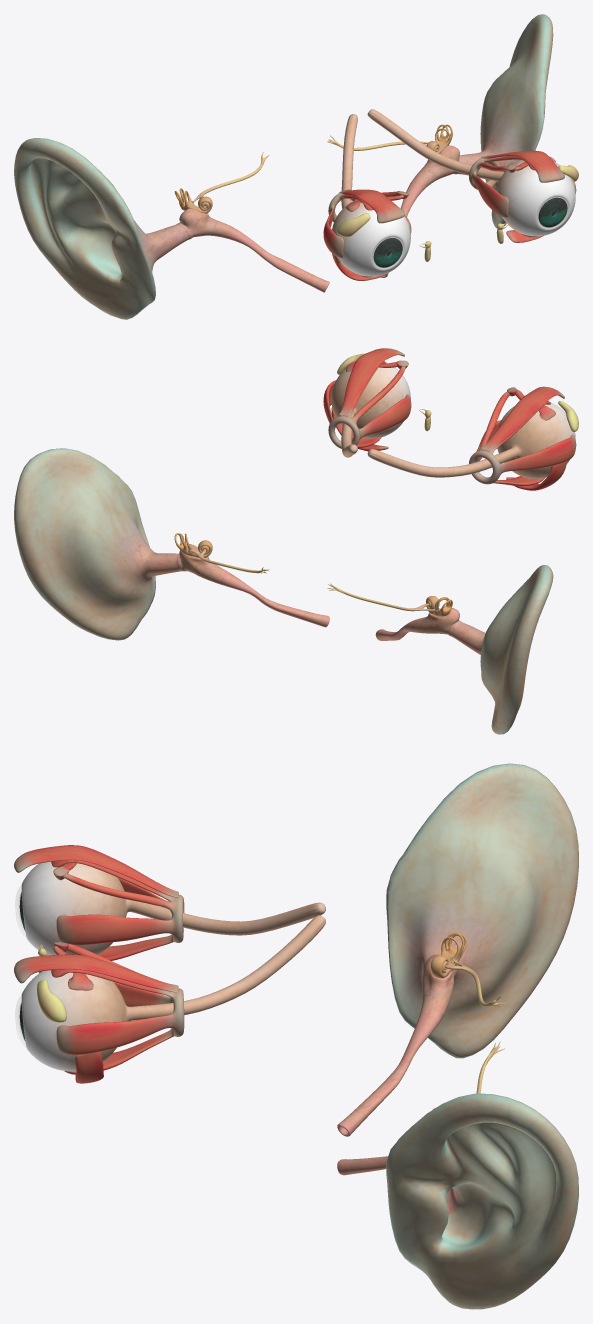
The model's file is human_Sensory.glb.
3 renders of one model, top to bottom at view 1: azimuth 30°, elevation 25°; view 2: azimuth 150°, elevation 25°; view 3: azimuth 270°, elevation 25°, orthographic. The views are drawn at different scales.
Visible parts, largest first — view 1: male_ear_inner_outer_R-hi, male_ear_inner_outer_L-hi, male_eye_sclera_optic_nerveL-hi, male_eye_sclera_optic_nerveR-hi, male_eye_musculatureL-hi, male_eye_musculatureR-hi, male_eye_corneaL-hi, male_eye_corneaR-hi, male_eye_lacrimalR-hi, male_ear_cochleaR-hi, male_ear_cochleaL-hi; view 2: male_ear_inner_outer_L-hi, male_ear_inner_outer_R-hi, male_eye_musculatureR-hi, male_eye_musculatureL-hi, male_eye_sclera_optic_nerveR-hi, male_eye_sclera_optic_nerveL-hi; view 3: male_ear_inner_outer_R-hi, male_ear_inner_outer_L-hi, male_eye_musculatureL-hi, male_eye_sclera_optic_nerveL-hi, male_eye_sclera_optic_nerveR-hi, male_eye_musculatureR-hi, male_ear_cochleaR-hi, male_eye_lacrimalL-hi.
Boxes of the visible parts, bbox=[...] form: male_ear_inner_outer_R-hi: bbox=[14, 138, 329, 319]; male_ear_inner_outer_L-hi: bbox=[380, 14, 553, 277]; male_eye_sclera_optic_nerveL-hi: bbox=[367, 109, 575, 236]; male_eye_sclera_optic_nerveR-hi: bbox=[332, 114, 410, 276]; male_eye_musculatureL-hi: bbox=[469, 150, 576, 242]; male_eye_musculatureR-hi: bbox=[323, 189, 411, 280]; male_eye_corneaL-hi: bbox=[538, 197, 567, 227]; male_eye_corneaR-hi: bbox=[373, 237, 402, 267]; male_eye_lacrimalR-hi: bbox=[337, 213, 431, 261]; male_ear_cochleaR-hi: bbox=[174, 188, 212, 213]; male_ear_cochleaL-hi: bbox=[426, 124, 452, 153]; male_ear_inner_outer_L-hi: bbox=[14, 448, 329, 640]; male_ear_inner_outer_R-hi: bbox=[375, 565, 553, 734]; male_eye_musculatureR-hi: bbox=[469, 386, 576, 490]; male_eye_musculatureL-hi: bbox=[323, 348, 411, 451]; male_eye_sclera_optic_nerveR-hi: bbox=[367, 403, 575, 478]; male_eye_sclera_optic_nerveL-hi: bbox=[331, 362, 410, 457]; male_ear_inner_outer_R-hi: bbox=[337, 763, 578, 1136]; male_ear_inner_outer_L-hi: bbox=[337, 1093, 578, 1309]; male_eye_musculatureL-hi: bbox=[14, 942, 184, 1083]; male_eye_sclera_optic_nerveL-hi: bbox=[19, 915, 325, 1071]; male_eye_sclera_optic_nerveR-hi: bbox=[19, 861, 325, 955]; male_eye_musculatureR-hi: bbox=[14, 845, 184, 960]; male_ear_cochleaR-hi: bbox=[431, 932, 466, 978]; male_eye_lacrimalL-hi: bbox=[37, 979, 66, 1022].
Bounding box in the file's own units: 0.1877 × 0.0696 × 0.1285.
60 materials, 60 textured.
